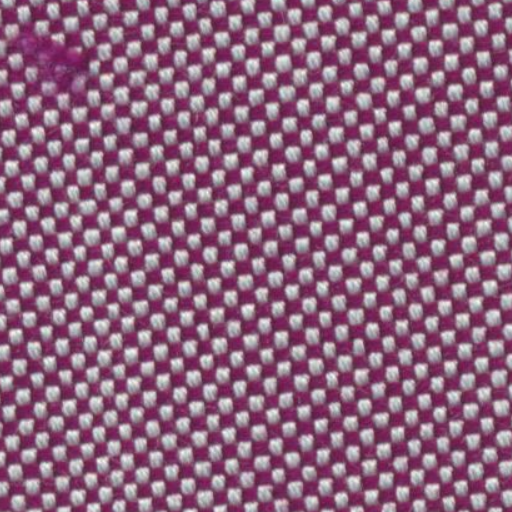DuanSha: (2, 10, 104, 107)
